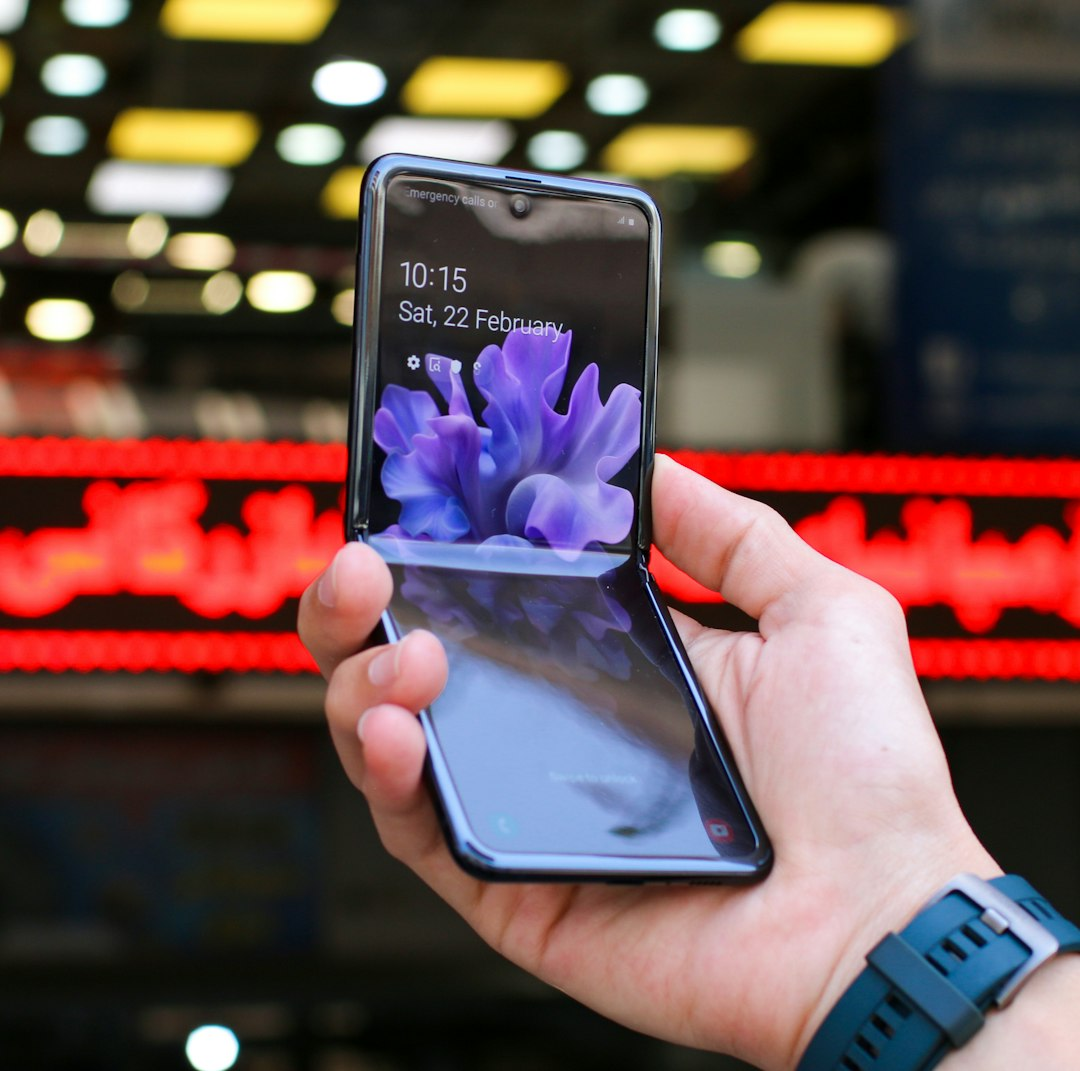phone: (347, 153, 776, 887)
